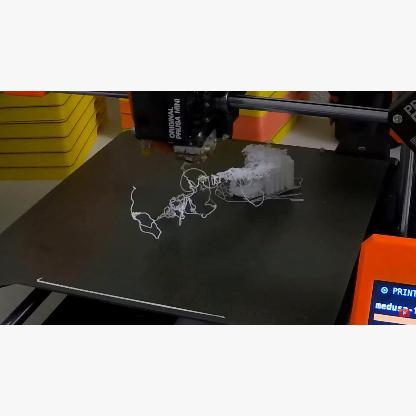fail: (128, 167, 230, 241)
